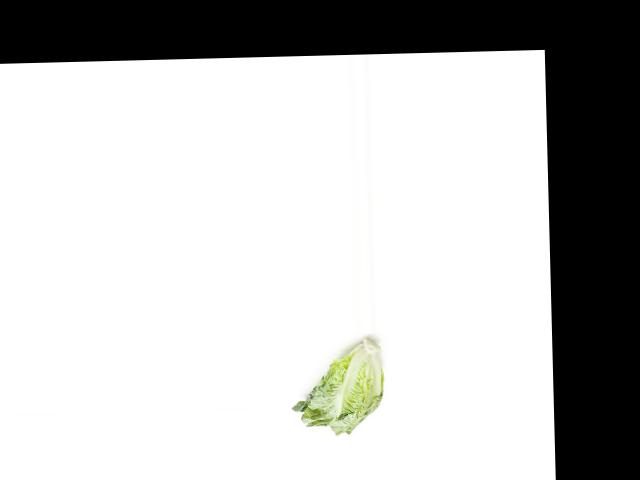lettuce: (291, 340, 388, 440)
